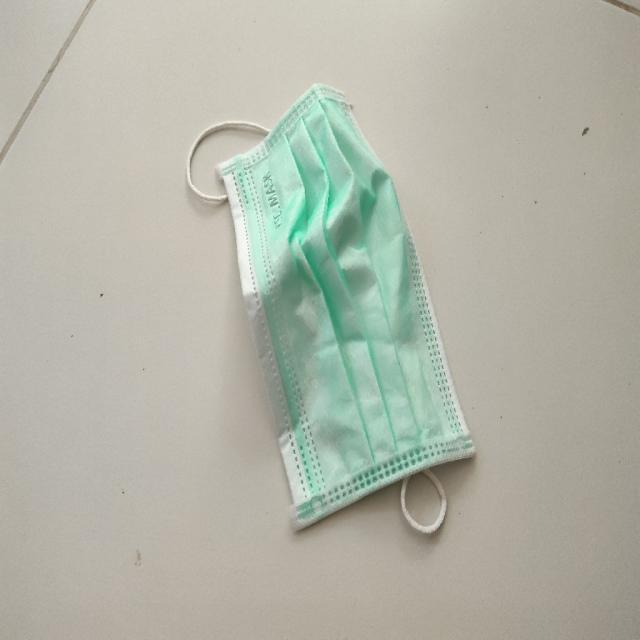face mask: (192, 75, 476, 537)
